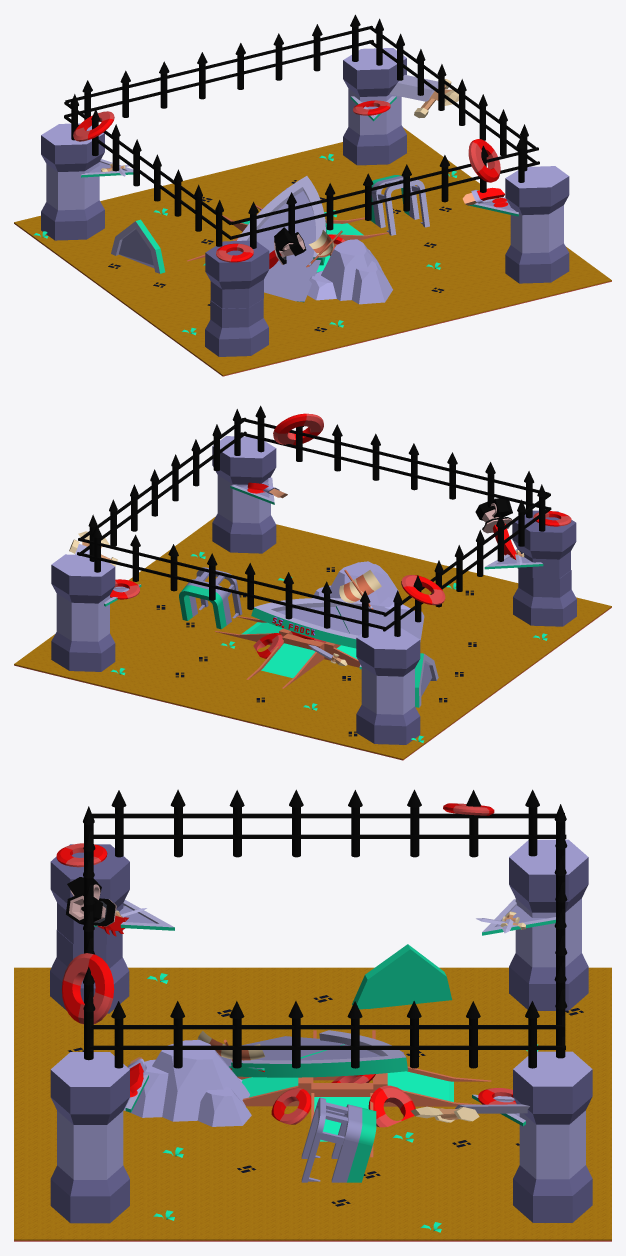
File: Boat_map_v3_scaled_up.glb
3 views of the same model, one above another, from view 1: azimuth 30°, elevation 25°; view 2: azimuth 150°, elevation 25°; view 3: azimuth 270°, elevation 25° (orthographic). The views are drawn at different scales.
Parts seen in each view (by area): view 1: mergedBlocks(Clone); view 2: mergedBlocks(Clone); view 3: mergedBlocks(Clone).
Part boxes in pixels (x1,y1,x2,y2): mergedBlocks(Clone): [14, 14, 611, 376]; mergedBlocks(Clone): [14, 405, 611, 760]; mergedBlocks(Clone): [14, 789, 611, 1241].
Bounding box in the file's own units: 34.77 × 13.35 × 32.3.
Materials: 20 (2 with a texture image).
